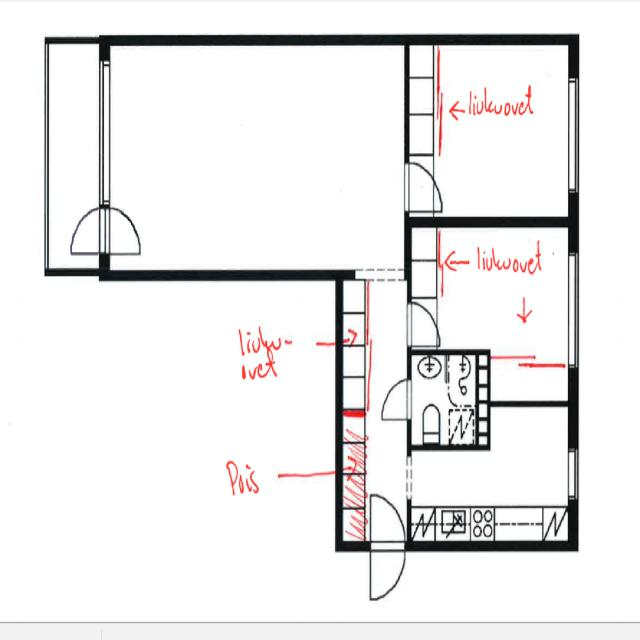door: (370, 490, 405, 551), (370, 540, 405, 601), (66, 207, 110, 254), (99, 207, 142, 254), (404, 163, 443, 211), (407, 303, 442, 346), (381, 380, 412, 418)
